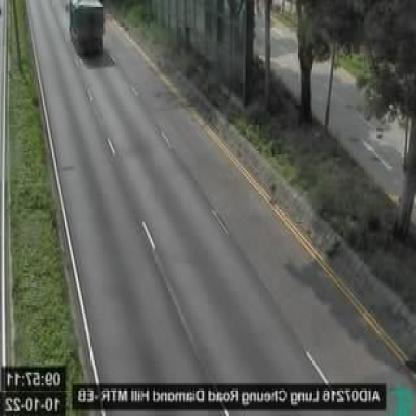Truck: (66, 0, 106, 55)
